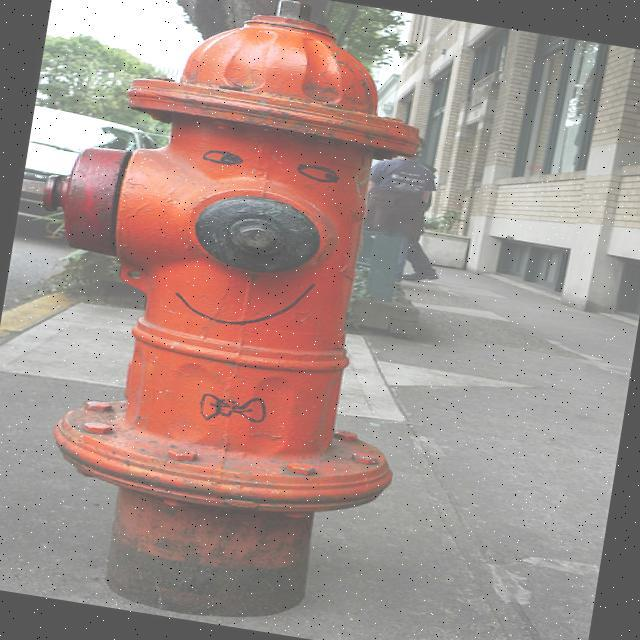fire_hydrant: (0, 0, 424, 626)
